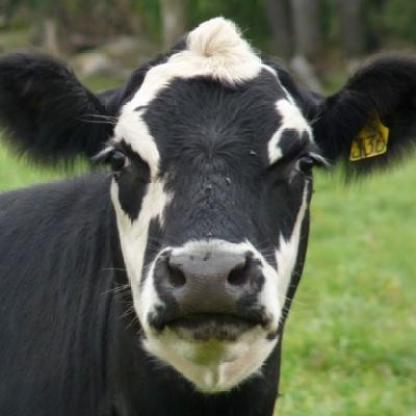lower: (194, 332, 228, 354)
mouth: (140, 247, 286, 359)
upper: (193, 266, 224, 284)
